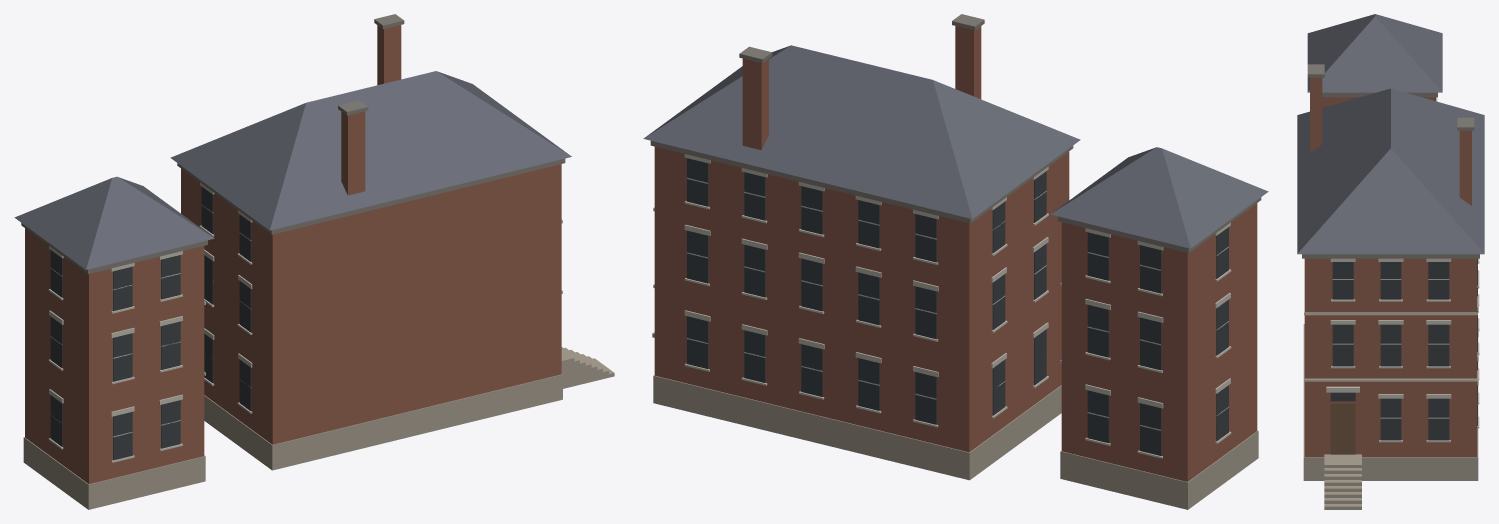
File: house_1815_indiana__draft_1904.glb
3 views of the same model, side by side, from view 1: azimuth 30°, elevation 25°; view 2: azimuth 150°, elevation 25°; view 3: azimuth 270°, elevation 25° (orthographic). The views are drawn at different scales.
Parts seen in each view (by area): view 1: house_1815_indiana__draft_1904; view 2: house_1815_indiana__draft_1904; view 3: house_1815_indiana__draft_1904.
Boxes of the visible parts, bbox=[...] form: house_1815_indiana__draft_1904: bbox=[14, 14, 614, 509]; house_1815_indiana__draft_1904: bbox=[643, 14, 1268, 509]; house_1815_indiana__draft_1904: bbox=[1297, 14, 1484, 509].
Size of the model in its own units: 27.9 by 16.78 by 8.95.
